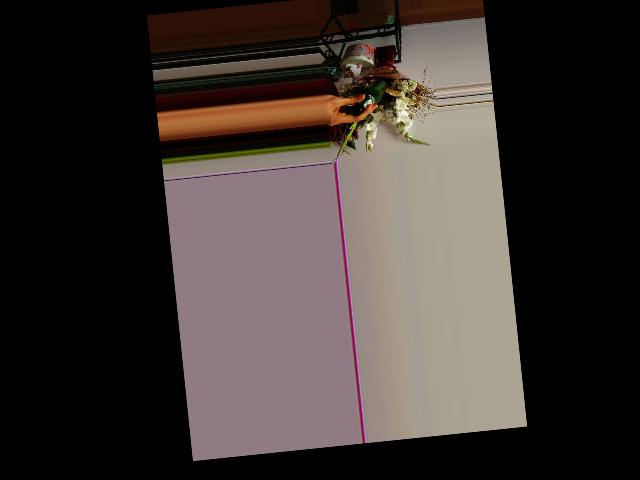beer: (347, 79, 389, 116)
